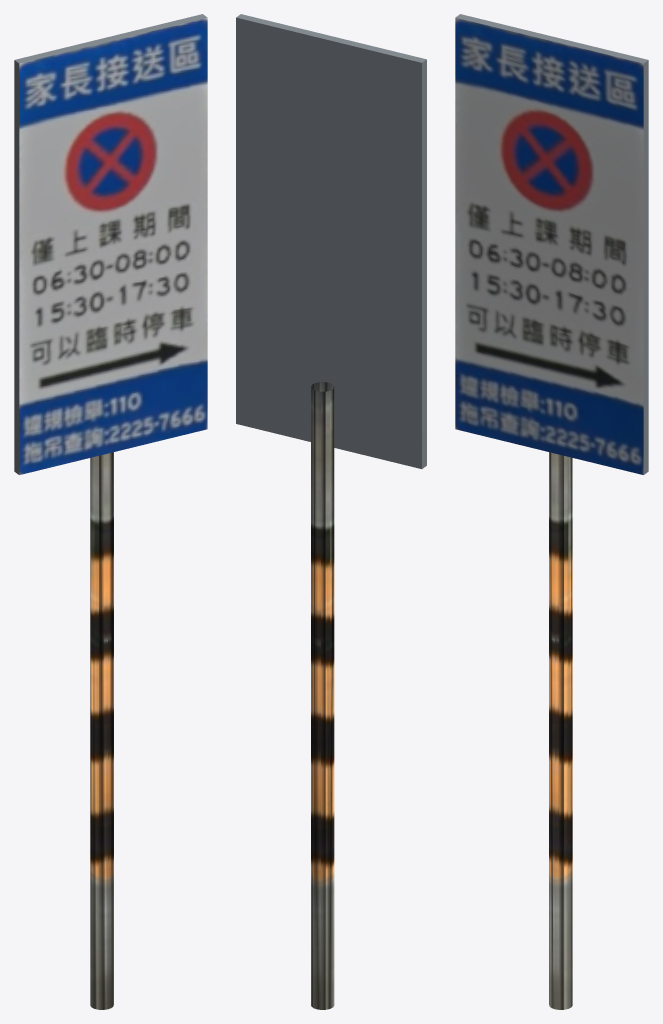
The model's file is Sign1.fbx.
3 views of the same model, side by side, from view 1: azimuth 30°, elevation 25°; view 2: azimuth 150°, elevation 25°; view 3: azimuth 330°, elevation 25° (orthographic).
Parts seen in each view (by area): view 1: Sign; view 2: Sign; view 3: Sign.
Boxes of the visible parts, bbox=[...] form: Sign: bbox=[14, 14, 207, 1009]; Sign: bbox=[236, 14, 426, 1009]; Sign: bbox=[455, 14, 648, 1009].
Bounding box in the file's own units: 0.6689 × 3.3 × 0.107.
1 material, 1 textured.
